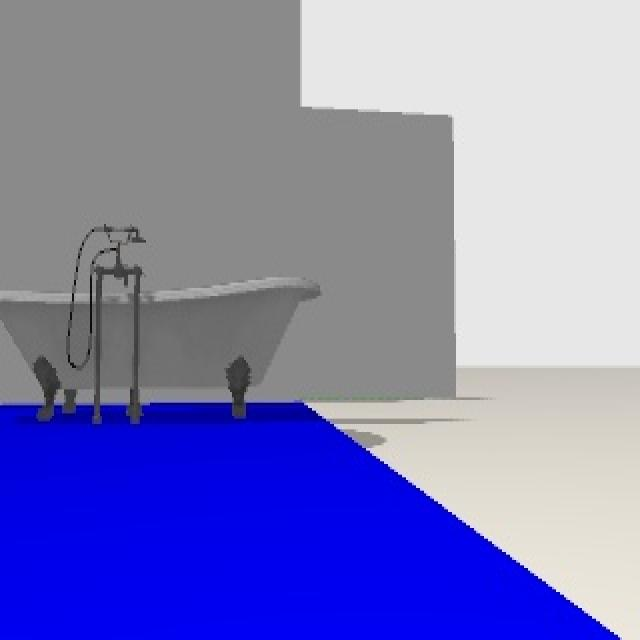bathtub: (0, 232, 322, 424)
